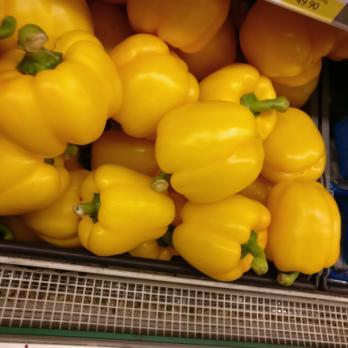Capsicum: (0, 1, 171, 255), (170, 0, 276, 283), (238, 9, 348, 275)
